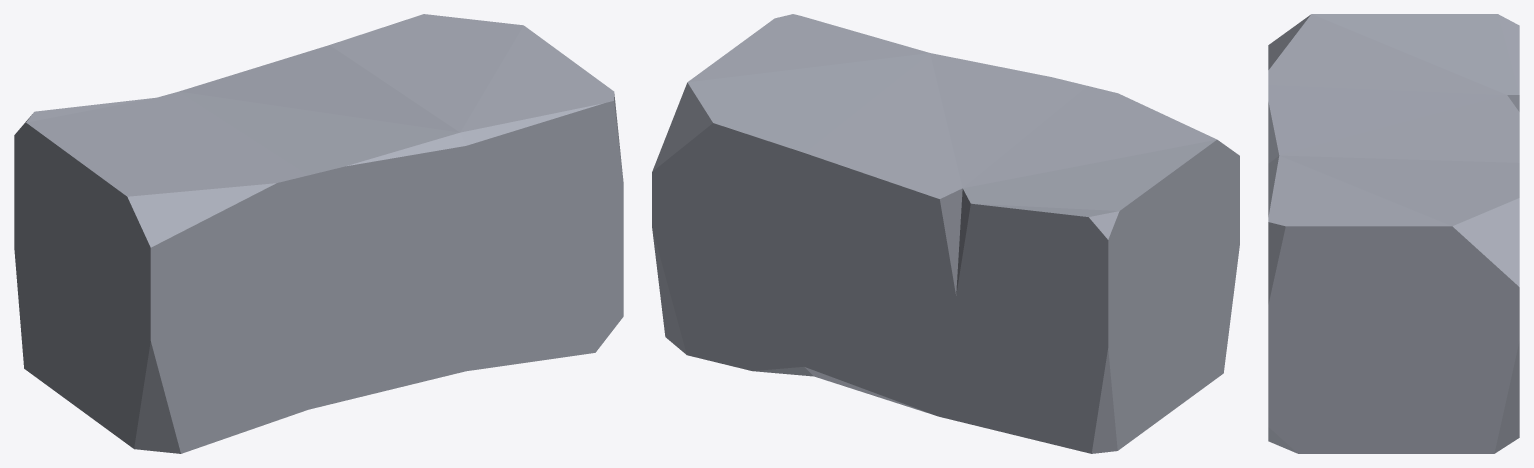
The model's file is mod_bg_PierreGrande.fbx.
The picture shows the model from 3 angles, left to right: view 1: azimuth 30°, elevation 25°; view 2: azimuth 150°, elevation 25°; view 3: azimuth 270°, elevation 25°; orthographic projection. The views are drawn at different scales.
Visible parts, largest first — view 1: PierreGrande; view 2: PierreGrande; view 3: PierreGrande.
Boxes of the visible parts, x1,y1,x2,y2 form: PierreGrande: (14, 14, 623, 453); PierreGrande: (652, 14, 1239, 453); PierreGrande: (1268, 14, 1519, 453).
Size of the model in its own units: 100 by 50.17 by 50.17.
